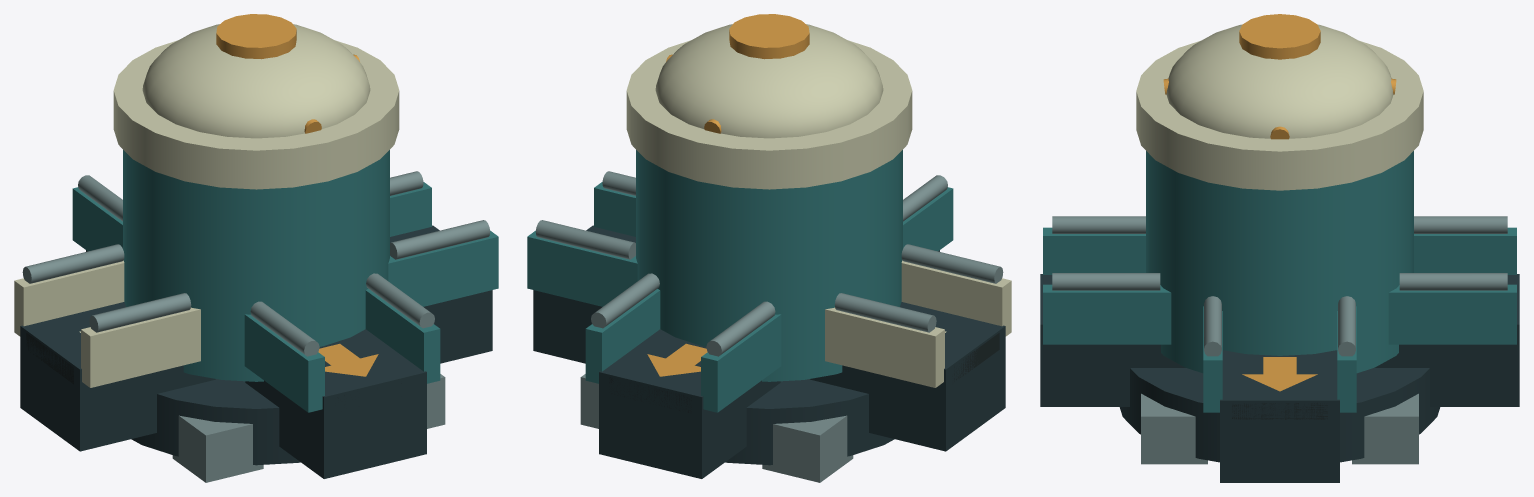
The model's file is splitter.glb.
The picture shows the model from 3 angles, left to right: view 1: azimuth 30°, elevation 25°; view 2: azimuth 150°, elevation 25°; view 3: azimuth 270°, elevation 25°; orthographic projection.
Parts seen in each view (by area): view 1: Batched static factory; view 2: Batched static factory; view 3: Batched static factory.
Boxes of the visible parts, x1,y1,x2,y2 form: Batched static factory: [14, 14, 498, 482]; Batched static factory: [527, 14, 1011, 482]; Batched static factory: [1040, 14, 1519, 482].
Bounding box in the file's own units: 1 × 0.8625 × 1.
